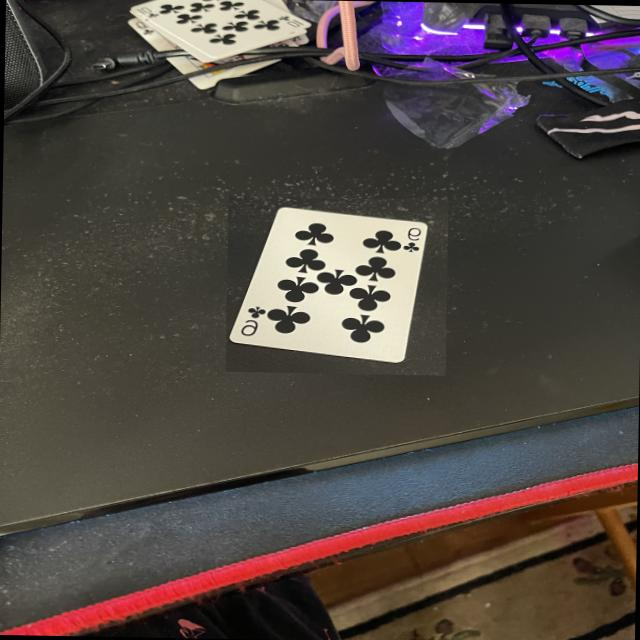9 of clubs: (225, 196, 448, 376)
